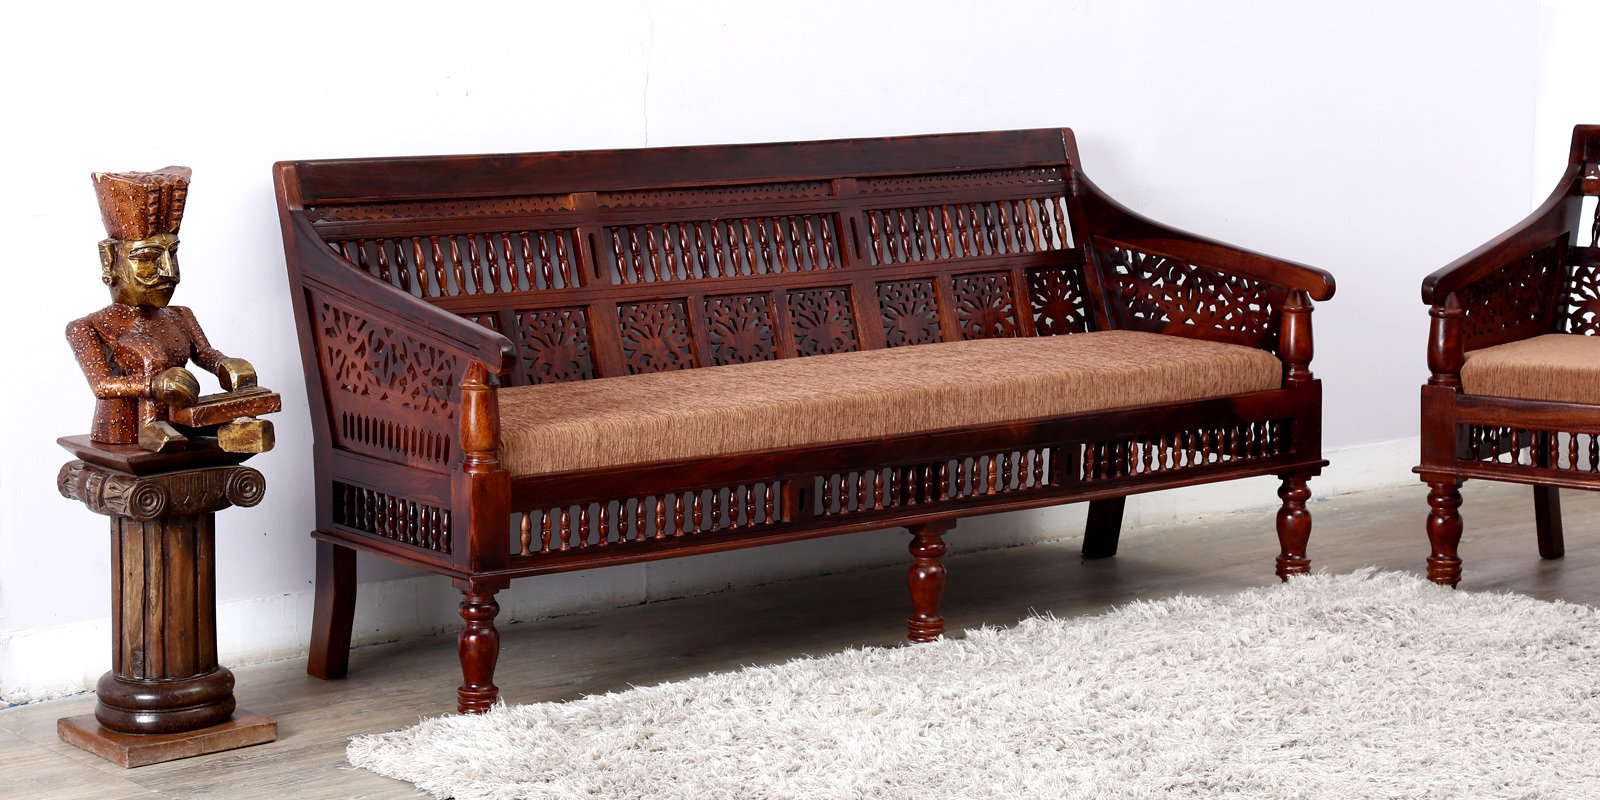Maurya Handcrafted Three Seater Sofa in Honey Oak Finish by Mudramark: (270, 124, 1338, 713)
